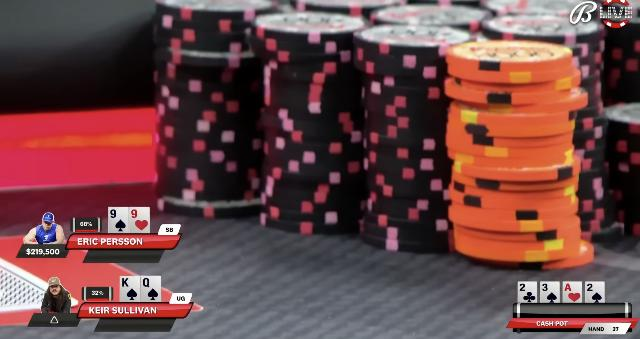2C: (519, 282, 537, 304)
2S: (586, 282, 604, 303)
3S: (542, 283, 558, 303)
9H: (130, 208, 148, 233)
9S: (109, 208, 127, 233)
AH: (564, 282, 582, 302)
KS: (120, 276, 140, 302)
QS: (142, 276, 160, 302)
